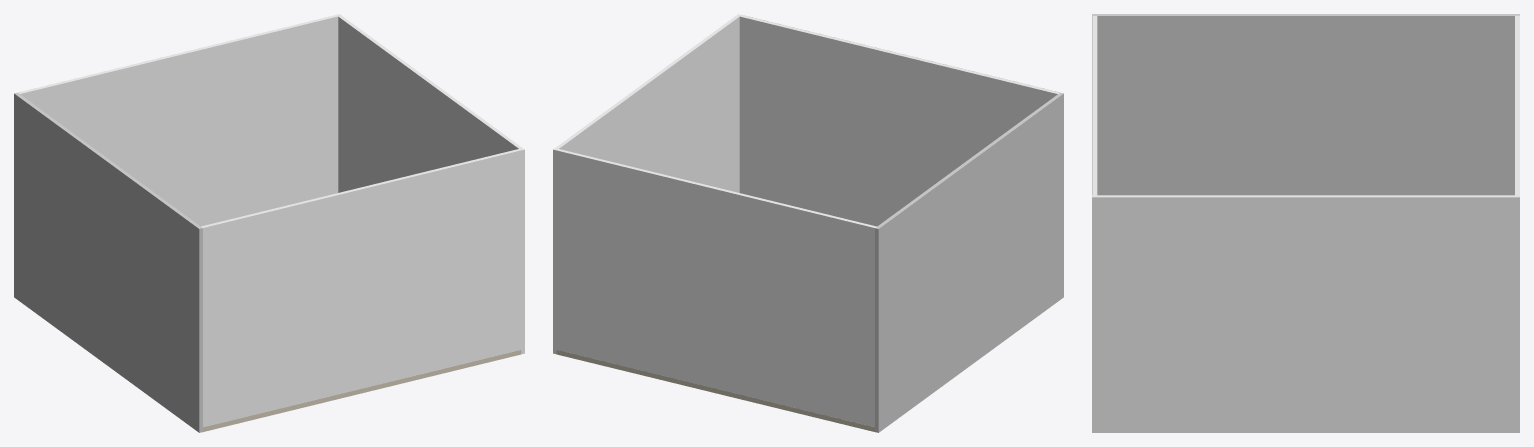
File: newRoom1.glb
The picture shows the model from 3 angles, left to right: view 1: azimuth 30°, elevation 25°; view 2: azimuth 150°, elevation 25°; view 3: azimuth 270°, elevation 25°; orthographic projection. The views are drawn at different scales.
Visible parts, largest first — view 1: Object_4.001, Object_1, Object_2.001, Object_3.001, Object_0, Object_5.001; view 2: Object_1, Object_4.001, Object_2.001, Object_3.001, Object_5.001, Object_0; view 3: Object_3.001, Object_2.001, Object_4.001, Object_1.
Boxes of the visible parts, <box> form: Object_4.001: <box>201,148,521,427</box>; Object_1: <box>18,14,338,226</box>; Object_2.001: <box>14,92,202,432</box>; Object_3.001: <box>337,14,524,354</box>; Object_0: <box>203,350,521,431</box>; Object_5.001: <box>203,150,521,232</box>; Object_1: <box>556,148,877,427</box>; Object_4.001: <box>739,15,1059,226</box>; Object_2.001: <box>875,92,1063,432</box>; Object_3.001: <box>553,14,741,354</box>; Object_5.001: <box>556,16,1058,232</box>; Object_0: <box>556,350,874,431</box>; Object_3.001: <box>1092,195,1519,432</box>; Object_2.001: <box>1092,14,1519,195</box>; Object_4.001: <box>1092,16,1097,196</box>; Object_1: <box>1515,15,1519,196</box>.
Bounding box in the file's own units: 5.27 × 3.15 × 5.19.
Materials: 3 (1 with a texture image).
